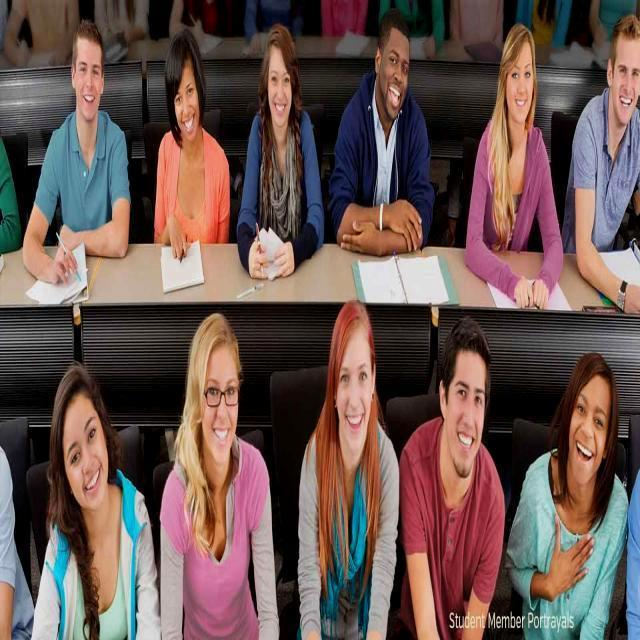Looking forward: (62, 395, 110, 511), (334, 330, 374, 456), (446, 351, 484, 476), (202, 344, 240, 465), (570, 377, 609, 485), (380, 24, 410, 120), (611, 34, 640, 126), (173, 59, 201, 144), (75, 36, 101, 123), (507, 40, 533, 122), (268, 42, 292, 126)
